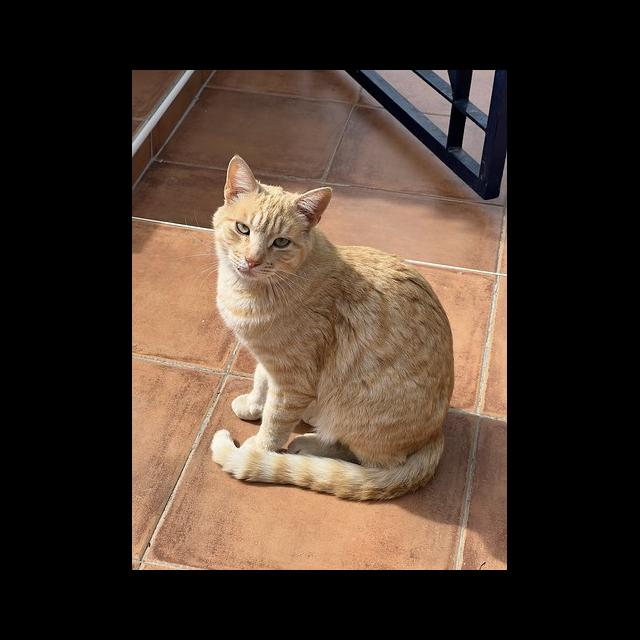animals: (214, 156, 456, 502)
